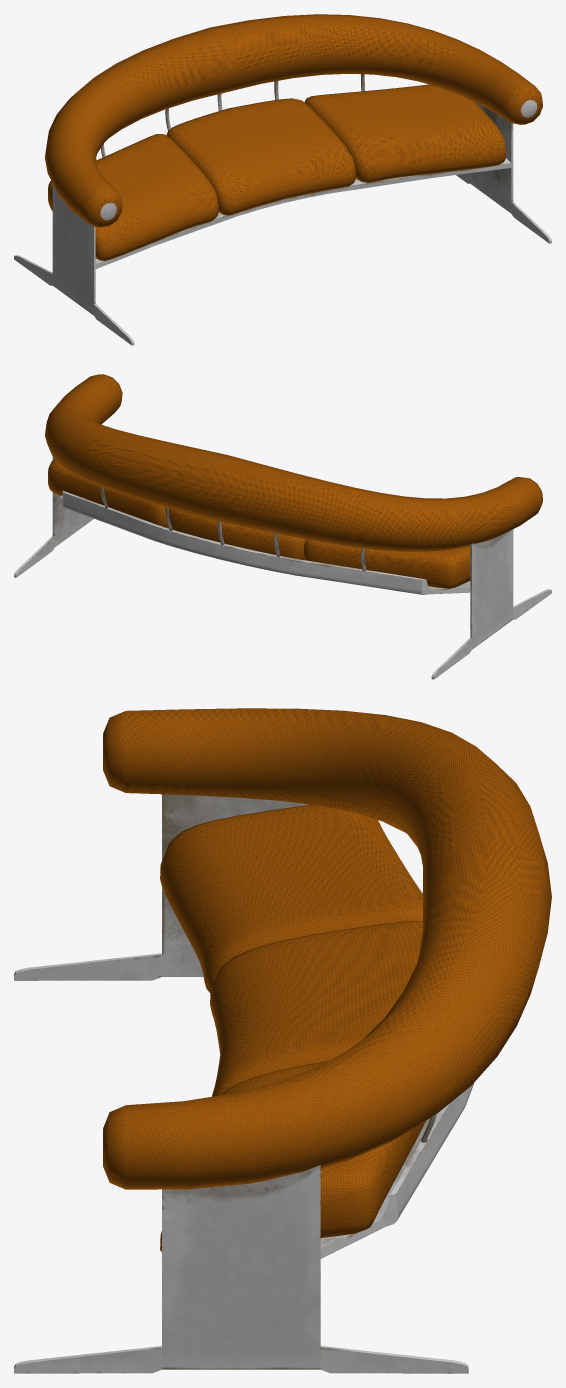
File: couch.fbx
The picture shows the model from 3 angles, top to bottom: view 1: azimuth 30°, elevation 25°; view 2: azimuth 150°, elevation 25°; view 3: azimuth 270°, elevation 25°; orthographic projection. The views are drawn at different scales.
Parts seen in each view (by area): view 1: BezierCurve, Cylinder; view 2: BezierCurve, Cylinder; view 3: BezierCurve, Cylinder.
Part boxes in pixels (x1,y1,x2,y2): BezierCurve: [45, 14, 542, 260]; Cylinder: [14, 74, 551, 345]; BezierCurve: [45, 374, 542, 588]; Cylinder: [14, 456, 551, 679]; BezierCurve: [103, 708, 551, 1252]; Cylinder: [14, 794, 473, 1373].
Size of the model in its own units: 325 by 119 by 172.
Materials: 2 (2 with a texture image).
